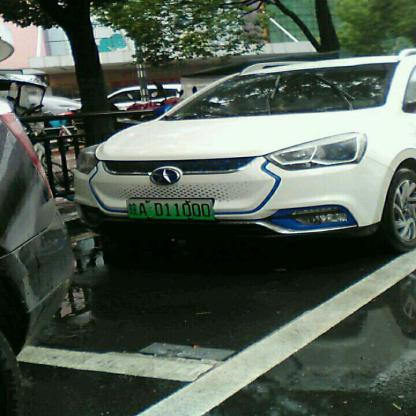lp: (125, 199, 214, 219)
